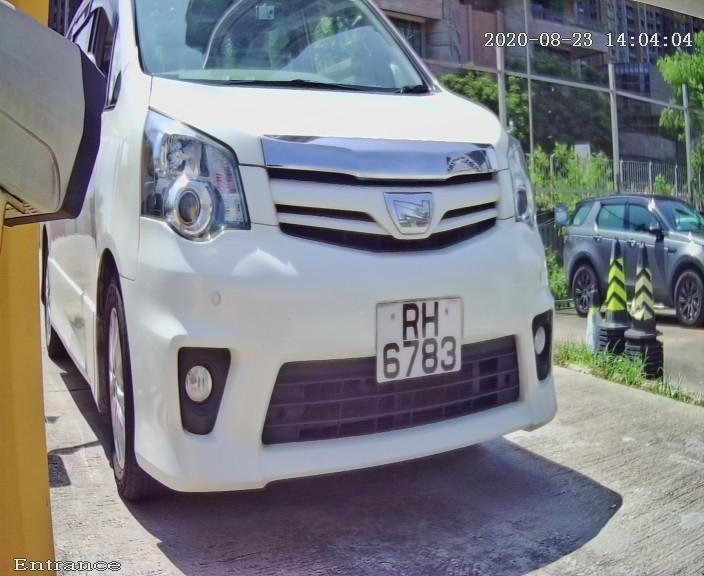Car: (35, 1, 588, 543)
License Plate: (365, 281, 472, 394)
